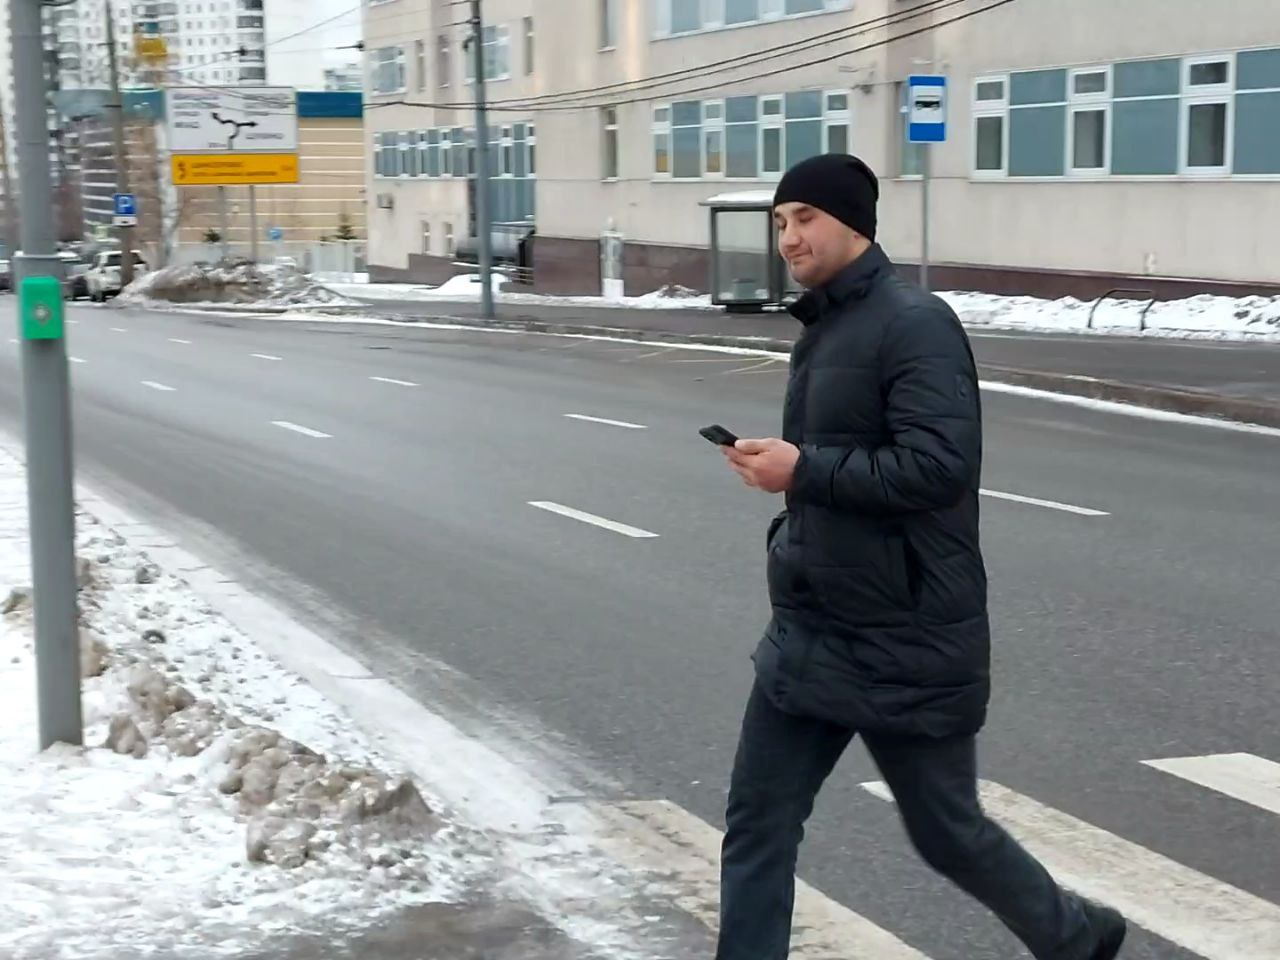sombie: (642, 123, 1140, 960)
